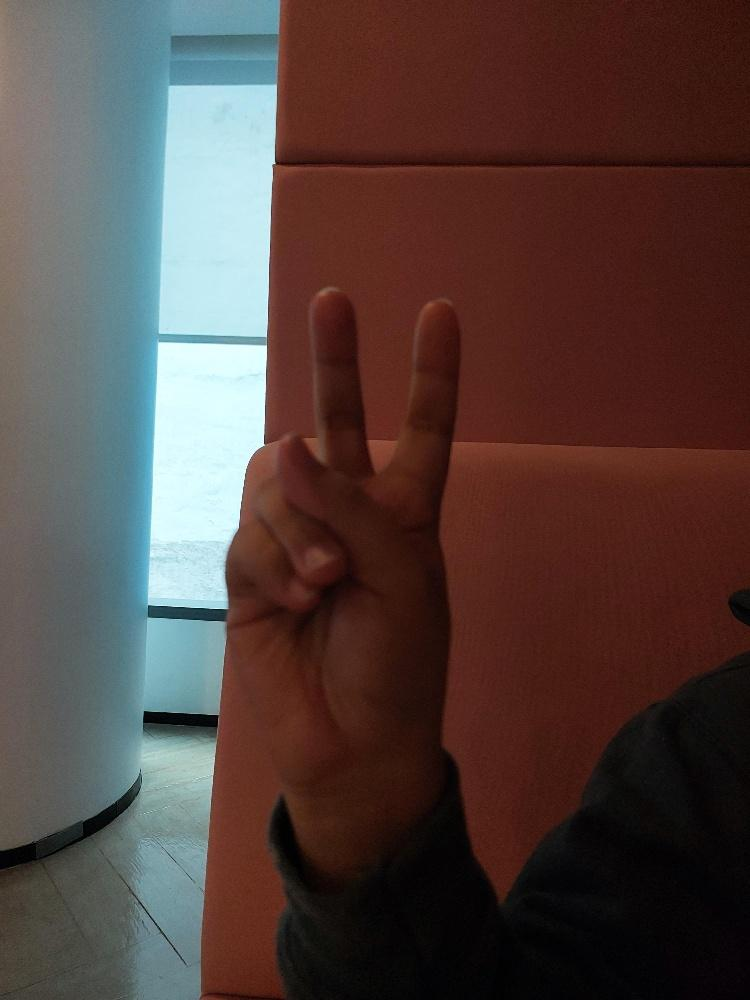v: (215, 280, 474, 795)
